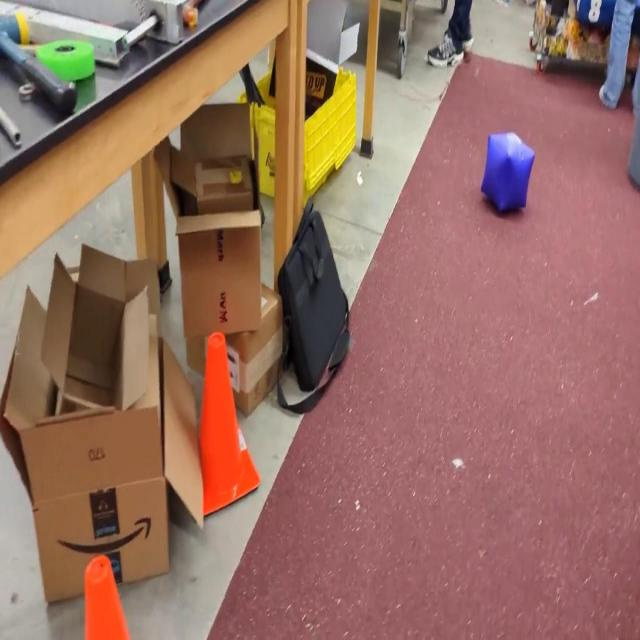frc_cube: (482, 131, 536, 214)
